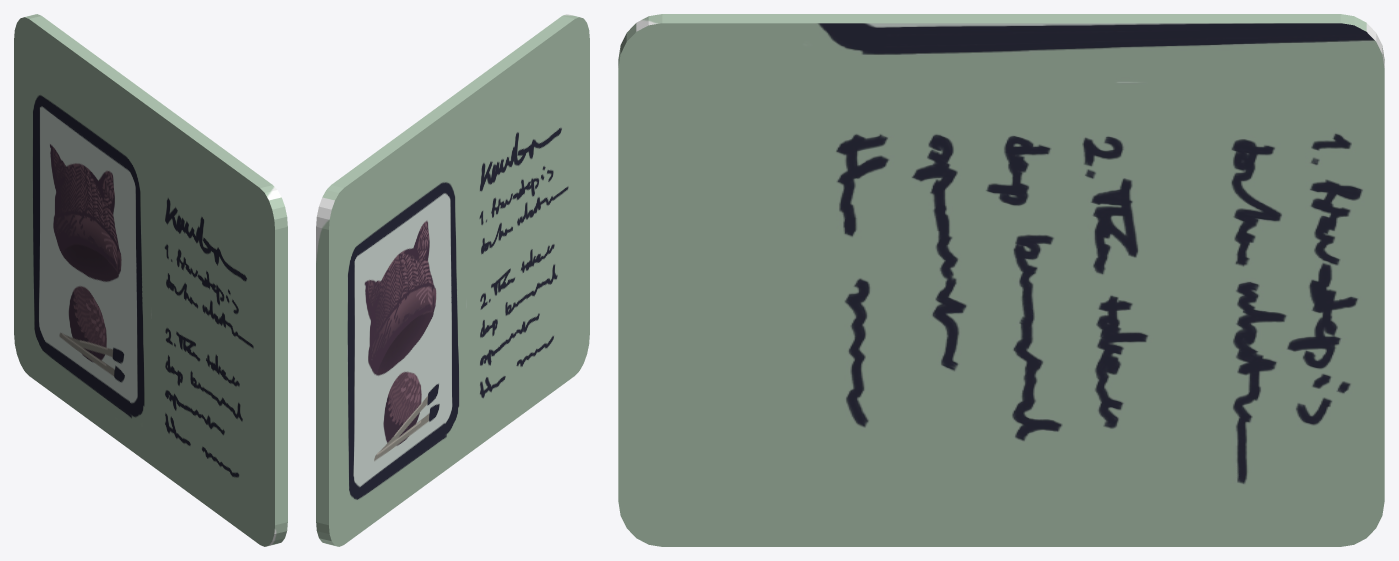
Rendered from PDF_knitting-pattern.fbx.
The picture shows the model from 3 angles, left to right: view 1: azimuth 30°, elevation 25°; view 2: azimuth 150°, elevation 25°; view 3: azimuth 270°, elevation 25°; orthographic projection. The views are drawn at different scales.
Parts seen in each view (by area): view 1: ErrorBox; view 2: ErrorBox; view 3: ErrorBox.
Boxes of the visible parts, box(x1,y1,x2,y2) form: ErrorBox: box(14, 14, 287, 546); ErrorBox: box(316, 14, 589, 546); ErrorBox: box(618, 14, 1384, 546).
Bounding box in the file's own units: 36.57 × 974 × 1291.
1 material, 1 textured.
